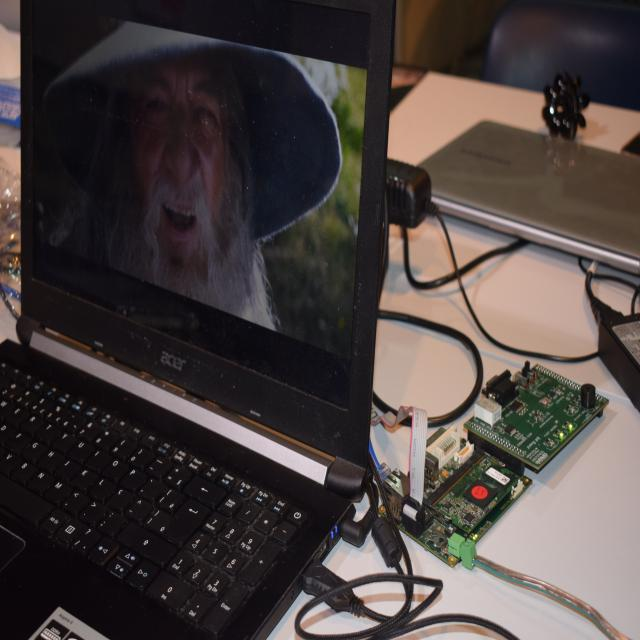som: (423, 450, 527, 537)
